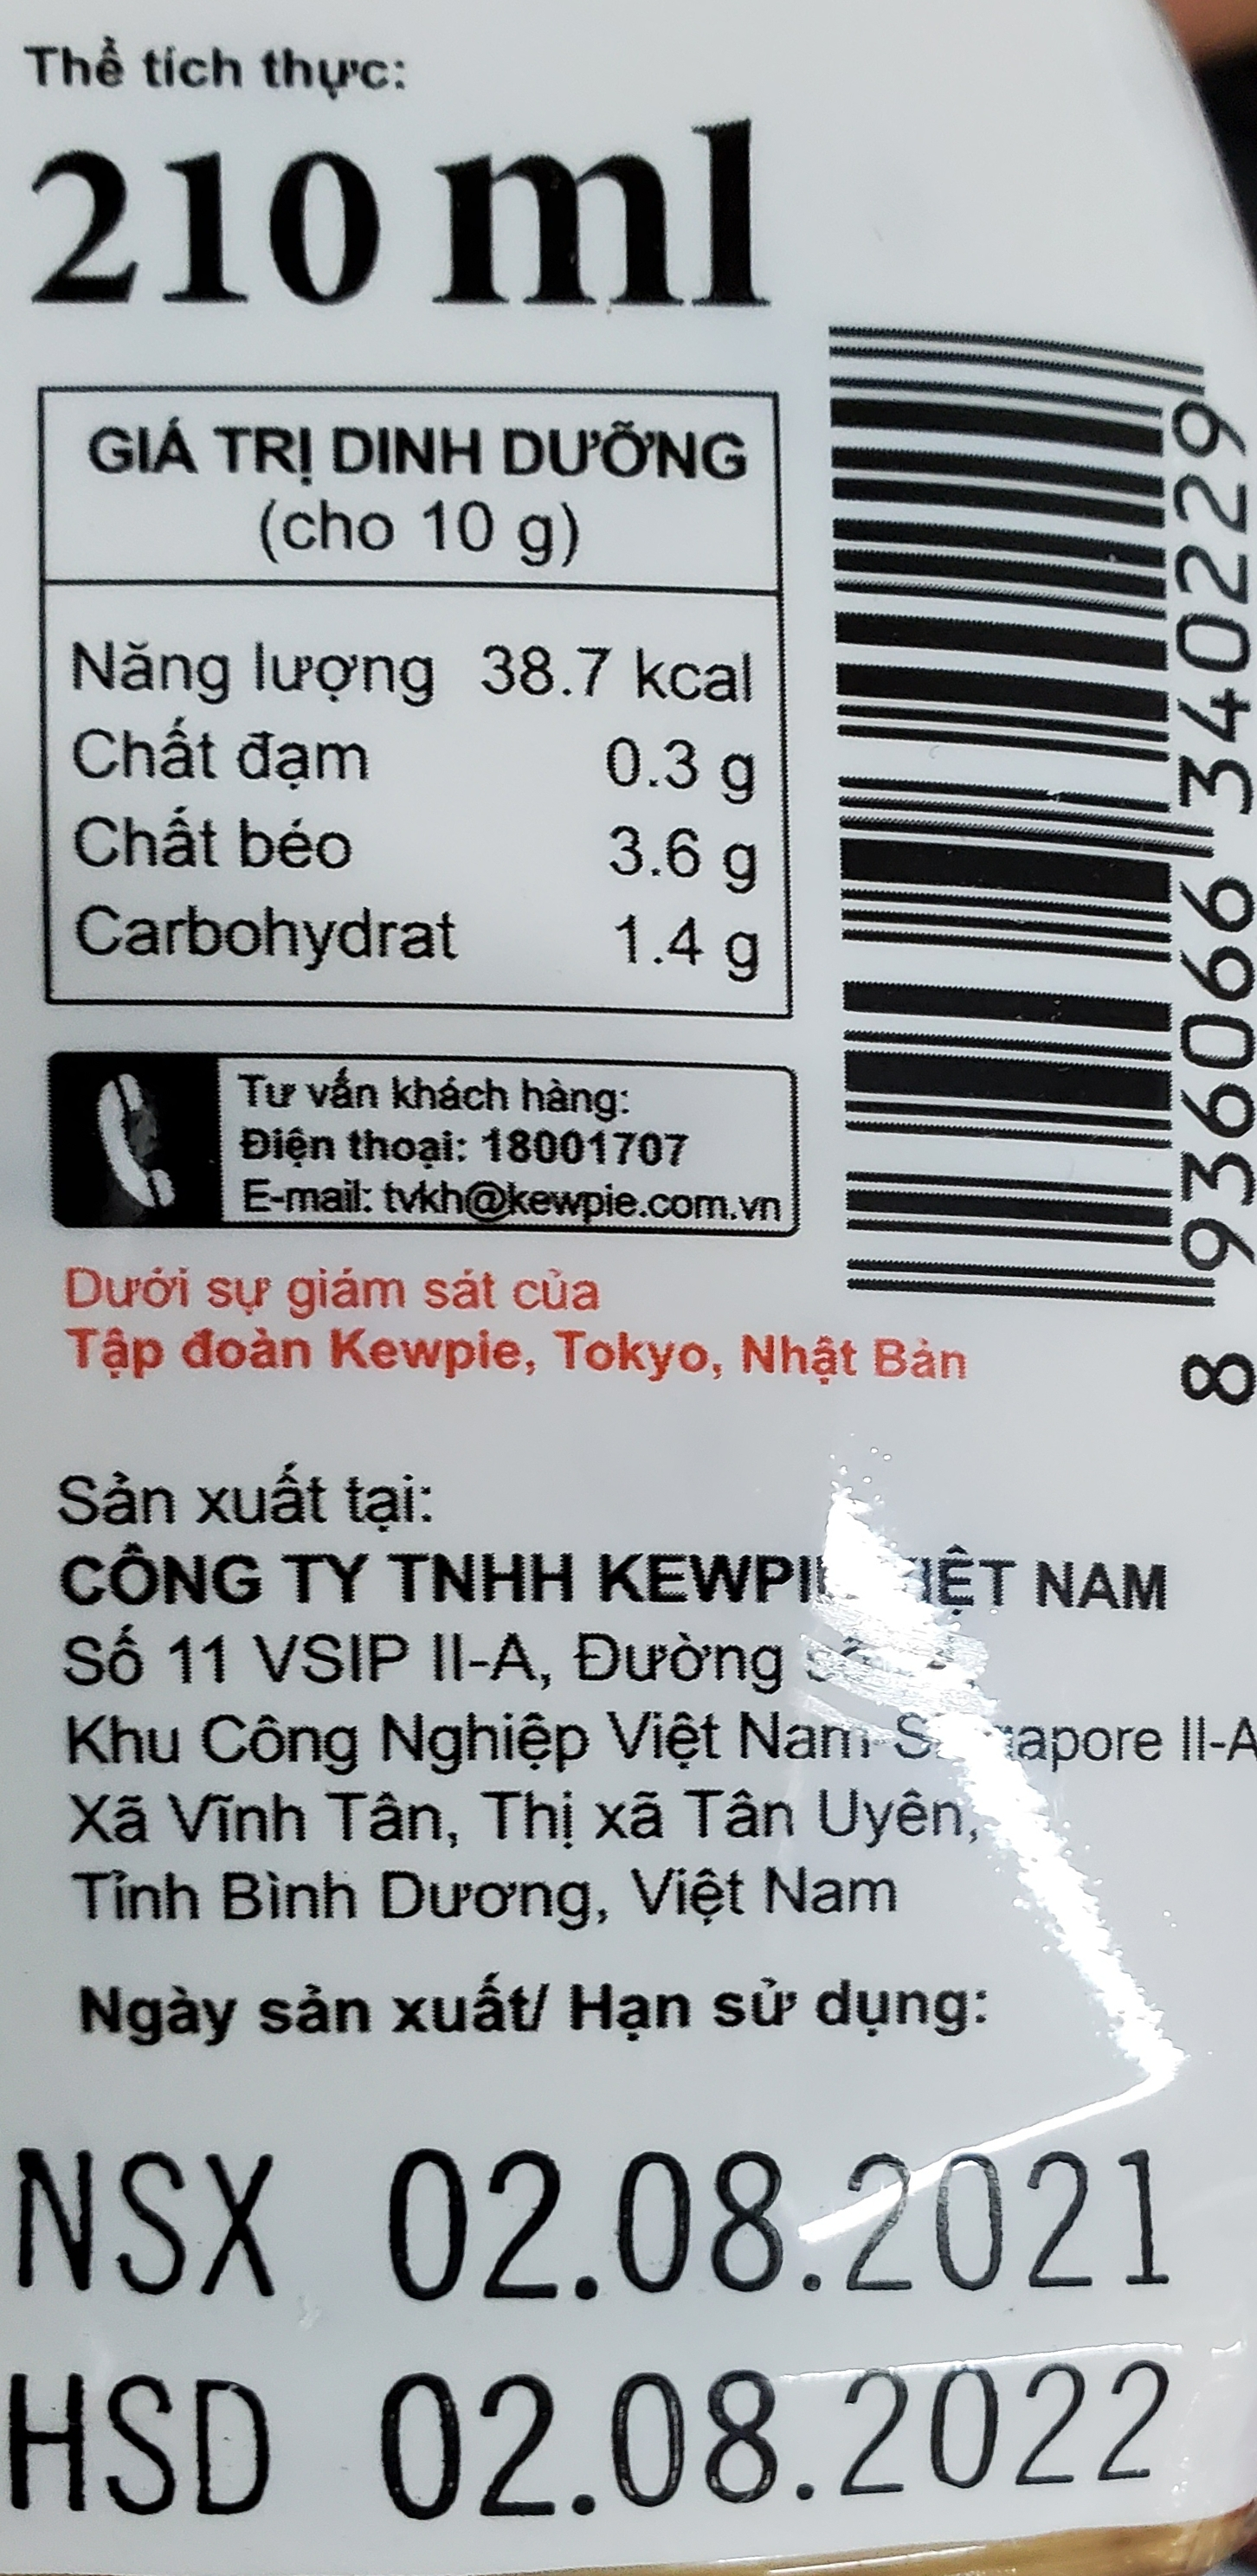barcode: (777, 246, 1257, 1421)
